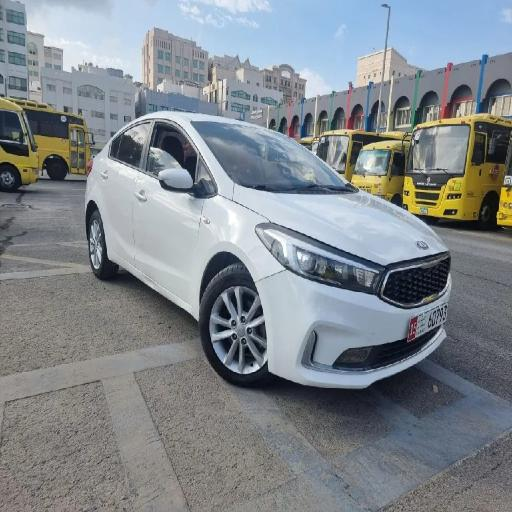license-plates: (407, 302, 448, 342)
